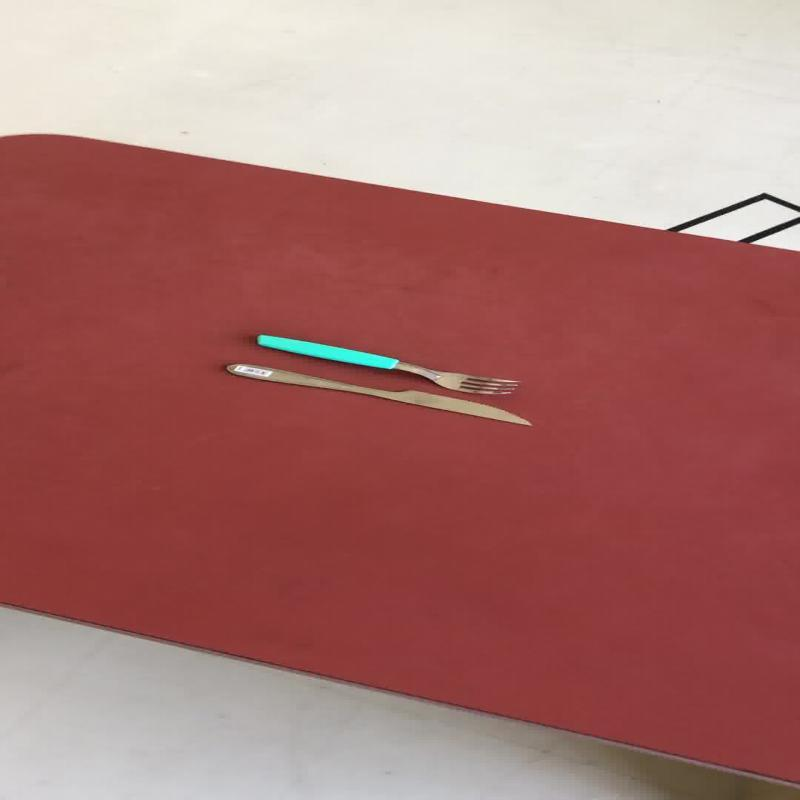fork: (253, 332, 520, 396)
knife: (224, 362, 532, 426)
